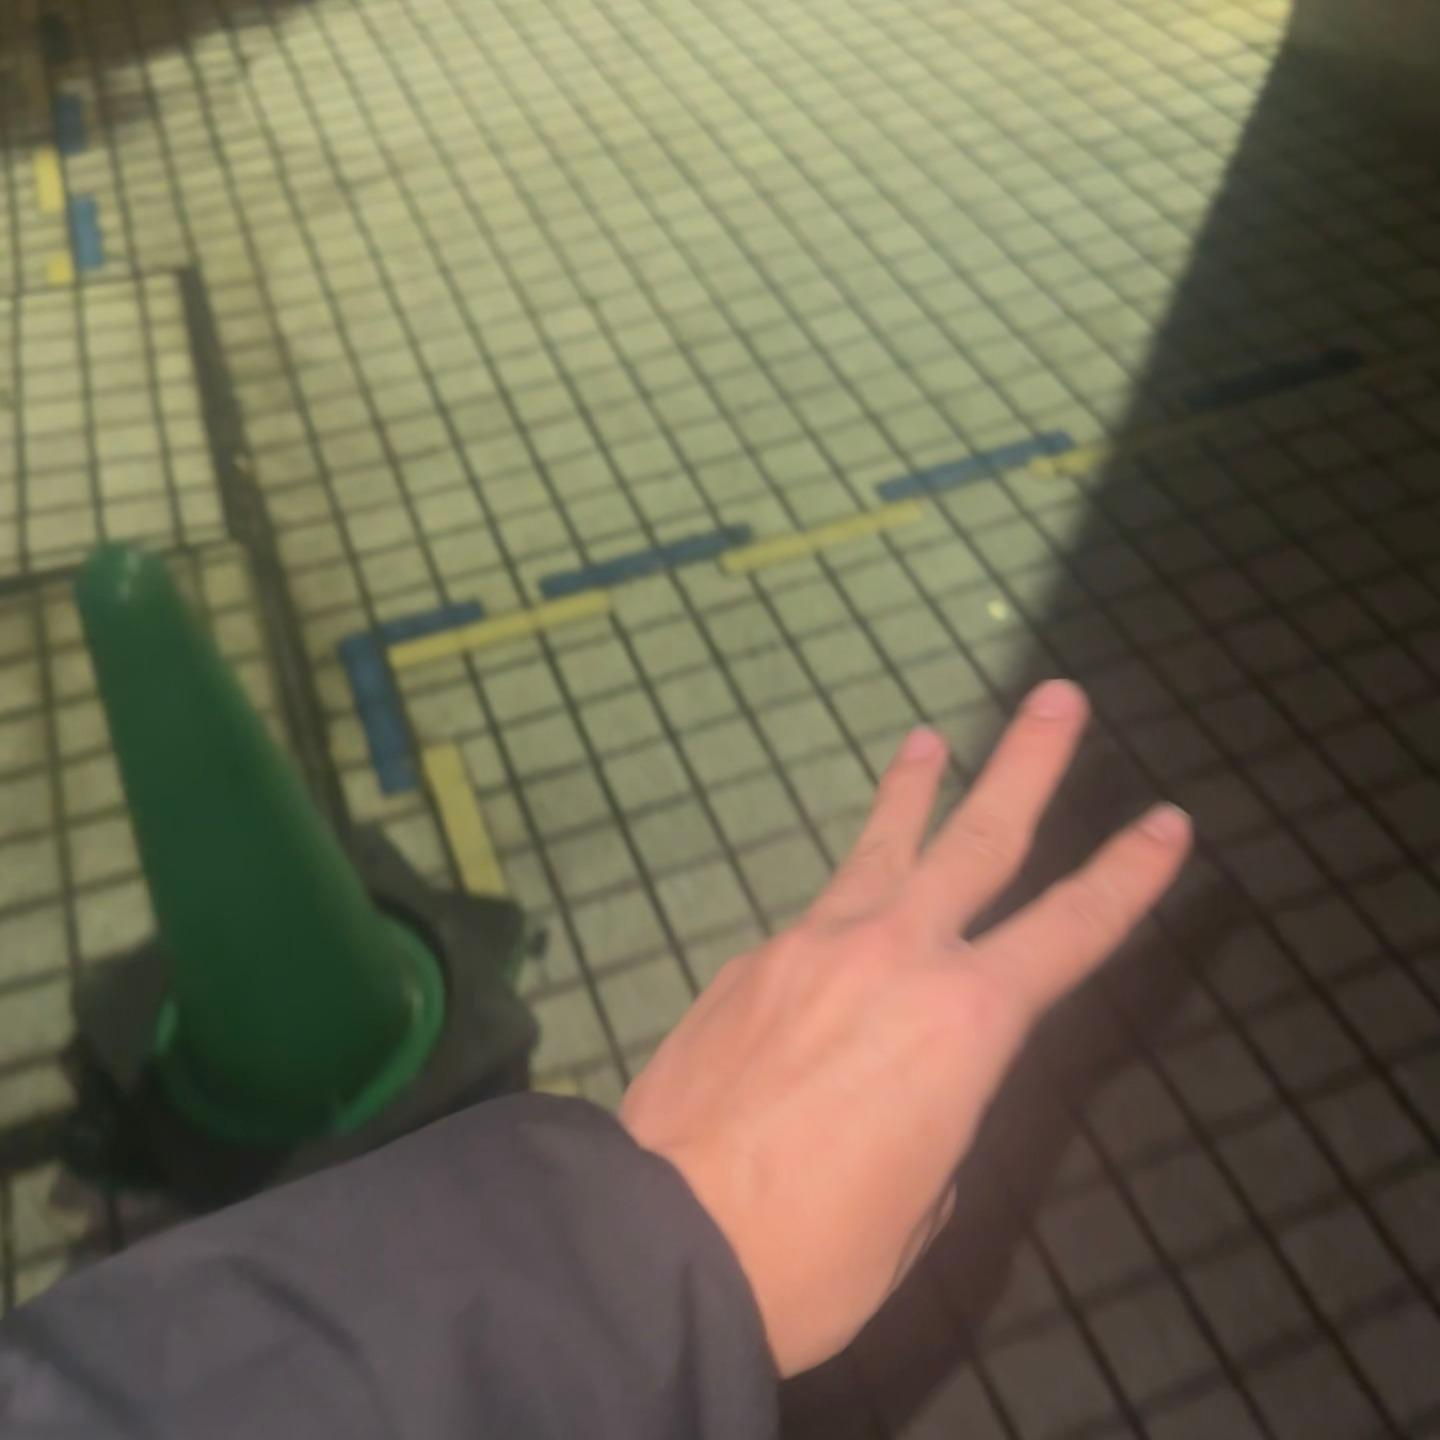without_gloves: (500, 547, 1250, 1414)
